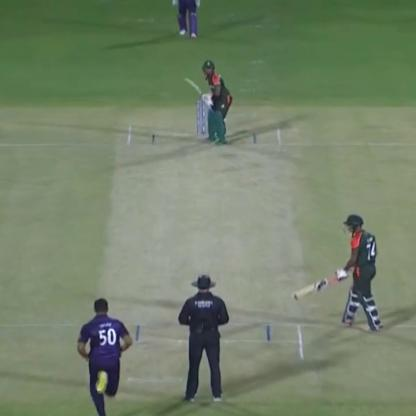bat: (288, 277, 348, 303), (177, 66, 211, 106)
pitch: (106, 117, 309, 374)
